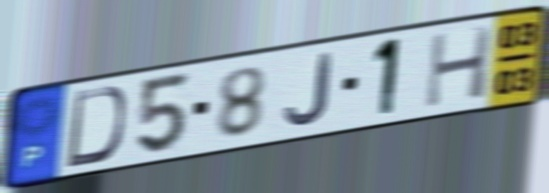1: (366, 34, 404, 122)
5: (136, 68, 194, 157)
8: (215, 63, 269, 139)
D: (63, 83, 129, 171)
H: (422, 22, 496, 111)
J: (281, 49, 336, 129)
